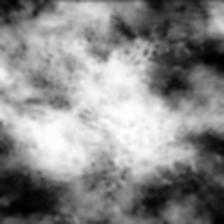Potentially Malignant Skin Tumors: (0, 41, 216, 216)
